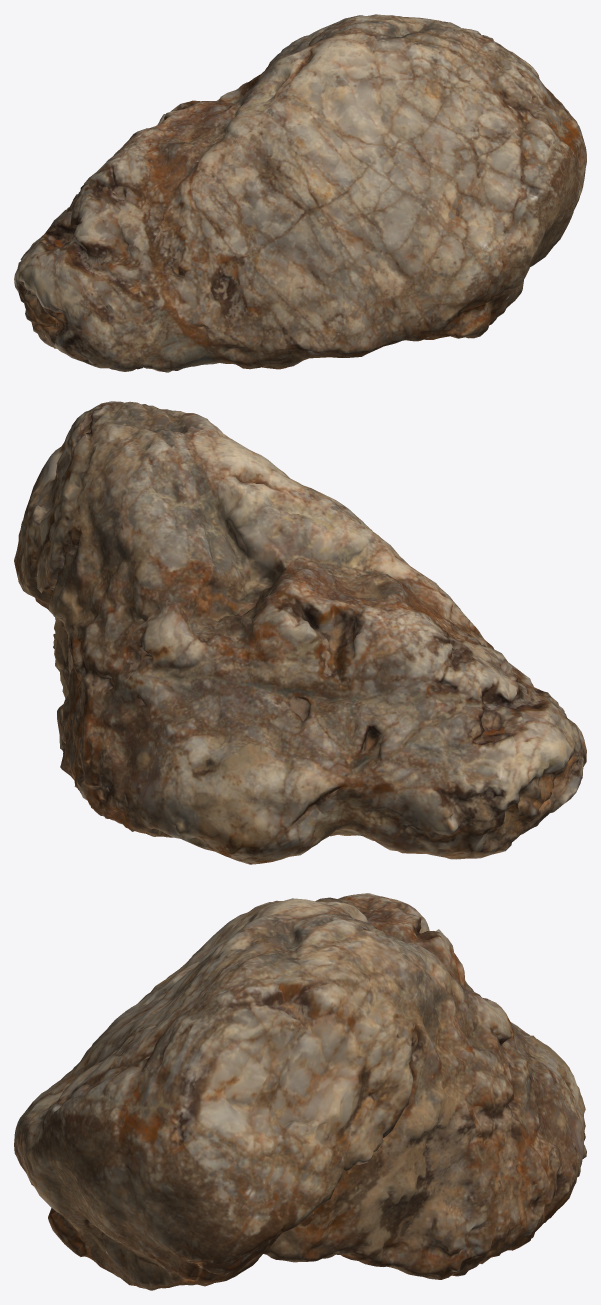
The model's file is Batu 2.fbx.
3 views of the same model, one above another, from view 1: azimuth 30°, elevation 25°; view 2: azimuth 150°, elevation 25°; view 3: azimuth 270°, elevation 25° (orthographic). The views are drawn at different scales.
Visible parts, largest first — view 1: Rock.001; view 2: Rock.001; view 3: Rock.001.
Boxes of the visible parts, x1,y1,x2,y2 form: Rock.001: [14, 14, 586, 372]; Rock.001: [14, 401, 586, 864]; Rock.001: [14, 893, 586, 1290].
Bounding box in the file's own units: 445 × 232 × 343.
1 material, 1 textured.
